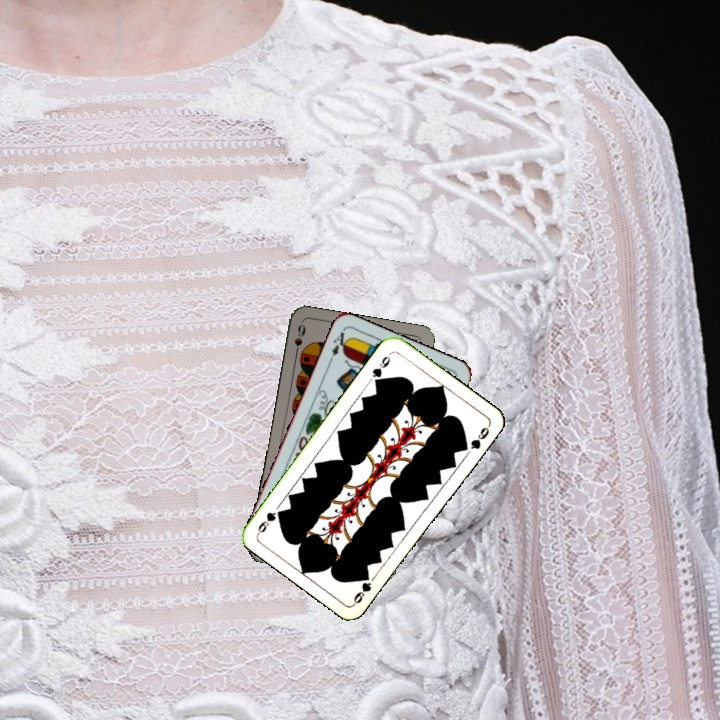EA: (325, 326, 351, 365)
G9: (368, 349, 394, 387), (349, 571, 374, 607)
S9: (290, 320, 308, 360)
